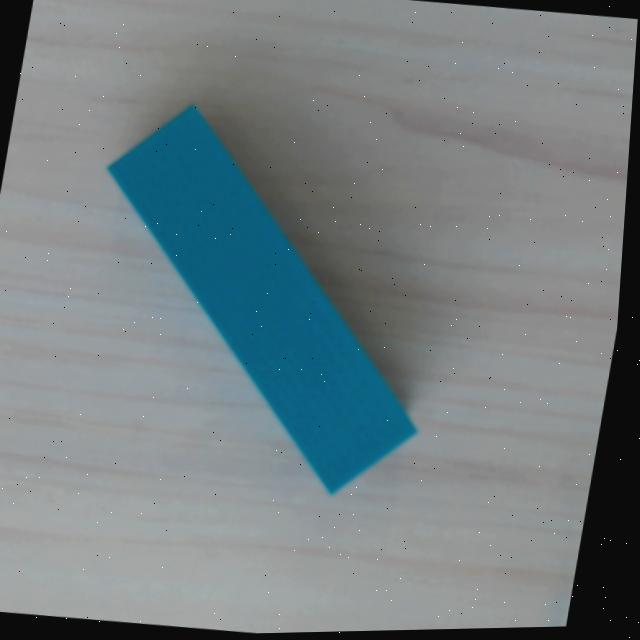Balok-Hijau-1002525: (103, 102, 419, 493)
